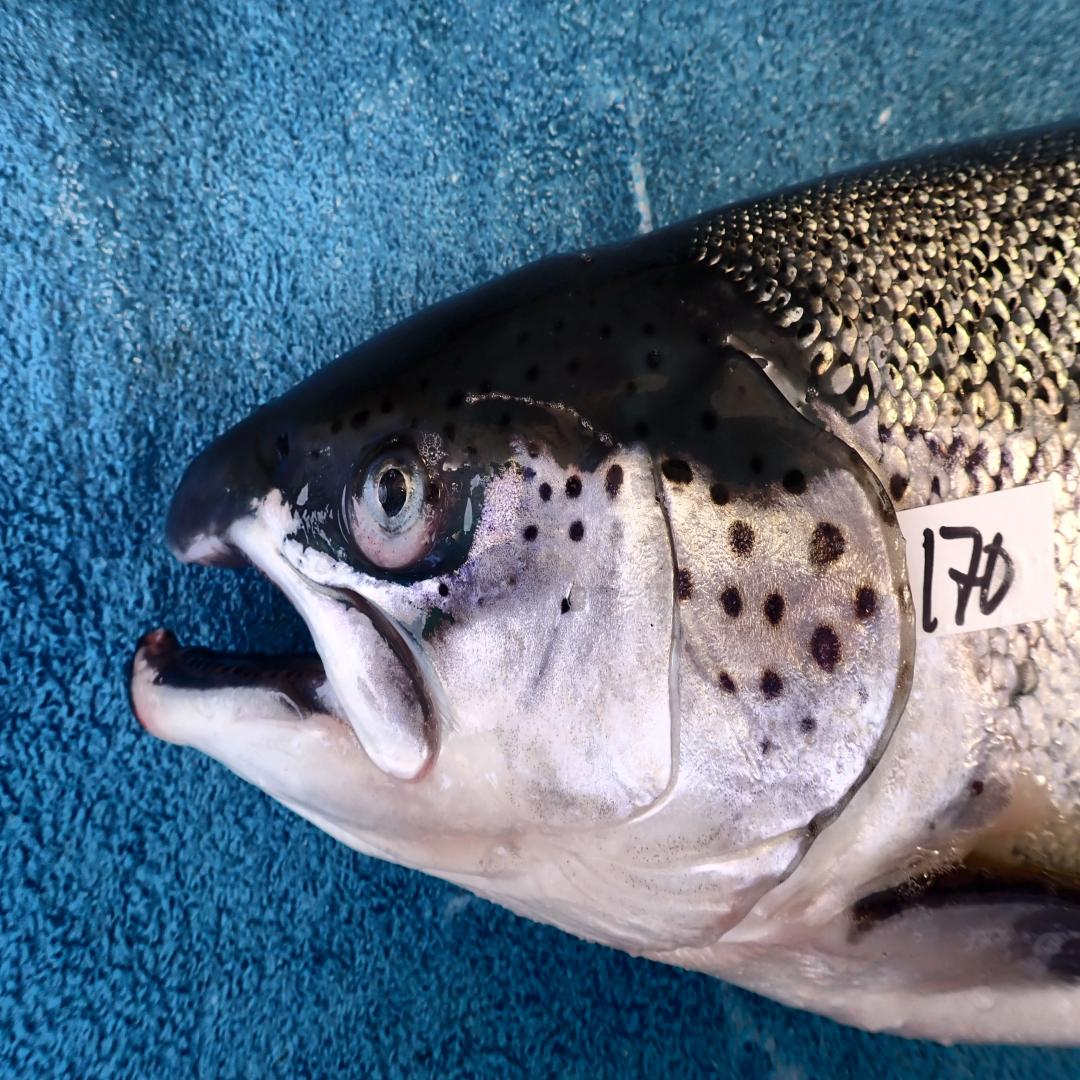spot: (810, 523, 846, 565), (812, 624, 840, 672), (730, 520, 755, 557), (854, 585, 878, 619), (662, 458, 692, 484), (761, 669, 783, 700), (764, 593, 785, 624), (605, 464, 624, 498), (608, 518, 629, 548), (721, 588, 742, 616), (783, 470, 806, 495), (717, 669, 738, 695), (677, 568, 692, 599), (711, 484, 730, 506), (565, 475, 582, 498), (799, 714, 816, 734), (502, 571, 519, 591), (570, 520, 584, 543), (538, 484, 553, 501), (523, 526, 538, 543), (559, 596, 572, 613), (527, 442, 540, 458), (859, 686, 869, 706), (760, 737, 771, 755), (523, 467, 536, 481), (477, 593, 487, 608), (439, 582, 449, 596)
